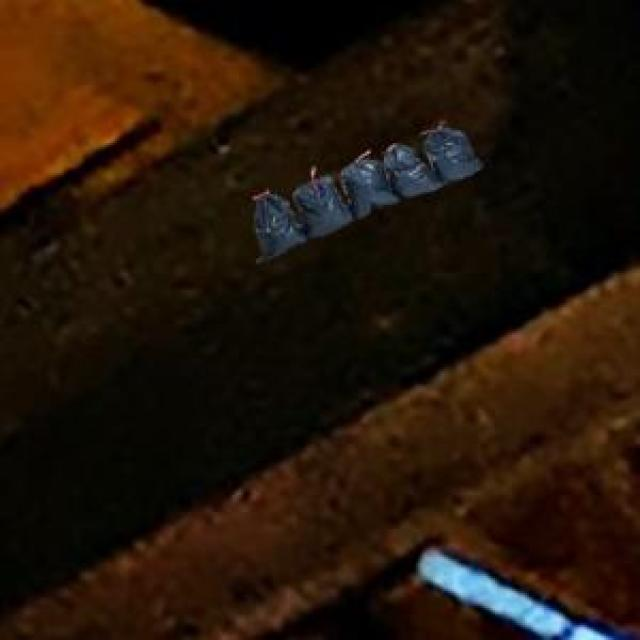miscellaneous trash: (252, 124, 478, 258)
